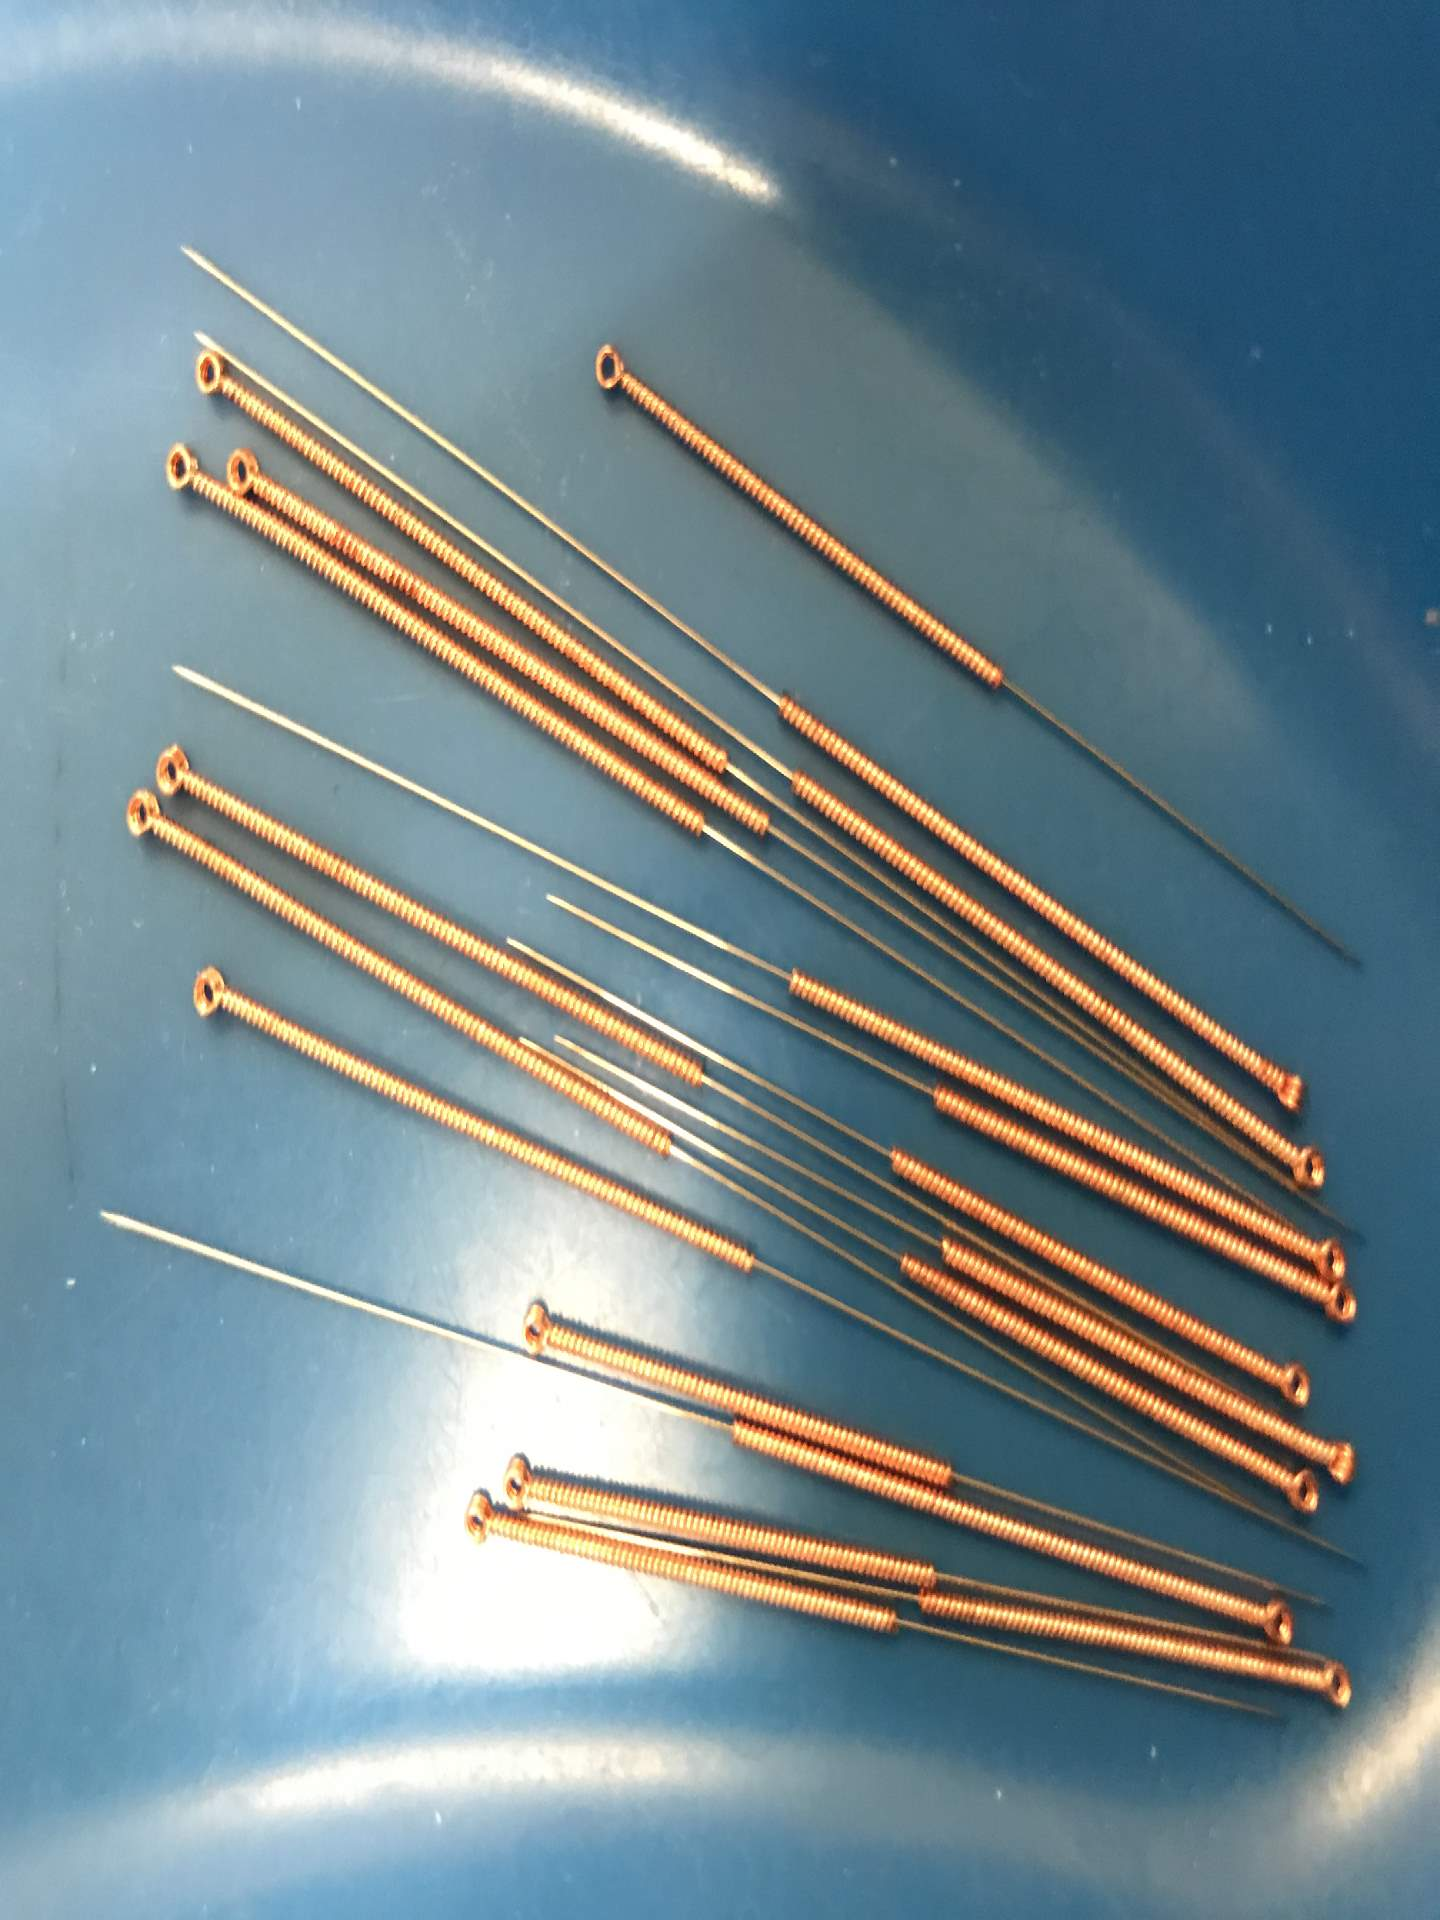needle: (178, 949, 244, 1036), (1240, 1586, 1299, 1655), (510, 1291, 561, 1368), (582, 334, 638, 404), (1302, 1649, 1358, 1717), (151, 434, 206, 503), (1283, 1131, 1331, 1200), (1266, 1352, 1319, 1415), (1265, 1051, 1310, 1123), (1272, 1463, 1325, 1525), (151, 732, 198, 801), (116, 785, 166, 848), (452, 1485, 498, 1554), (493, 1448, 542, 1513), (188, 342, 234, 408), (1316, 1426, 1361, 1491), (224, 432, 268, 499), (1307, 1223, 1351, 1284), (1314, 1277, 1361, 1330)
